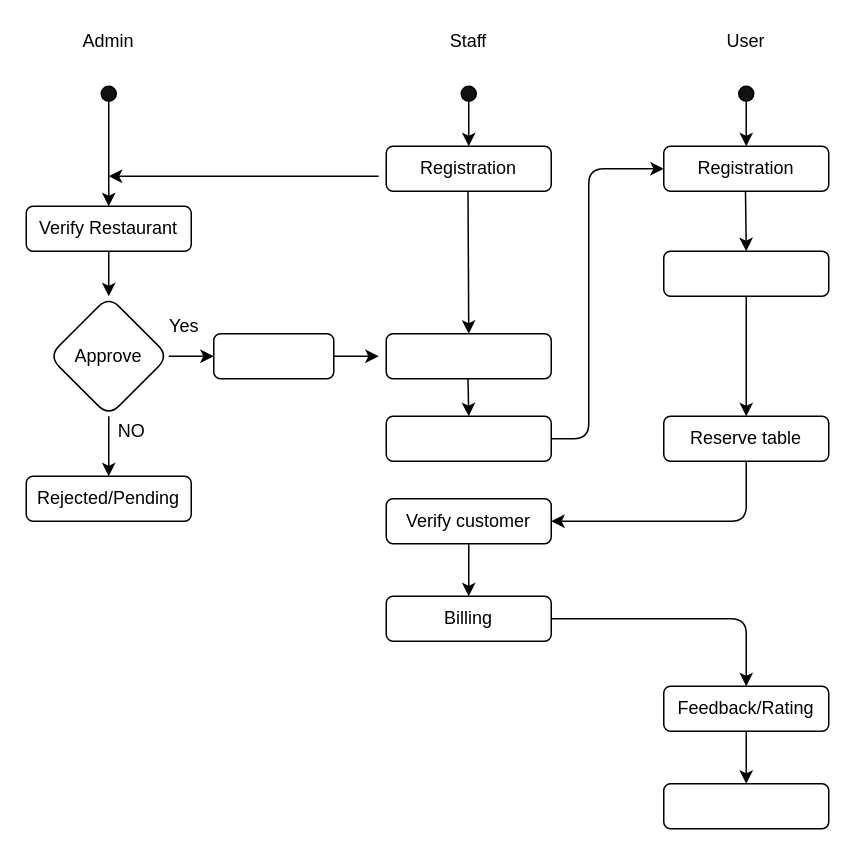
Image size: 855x855. Some labels were removed from this diagram. Each missing label, with the centre of its shape:
"Add Restaurant Details" goes at point (468, 355).
"Manage Food Details" goes at point (468, 438).
"Restaurant Approved" goes at point (273, 355).
"View Bill History" goes at point (745, 805).
"View Restaurant Details" goes at point (745, 273).
